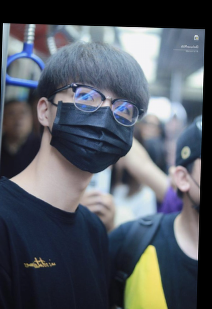with_mask: (46, 78, 136, 174)
